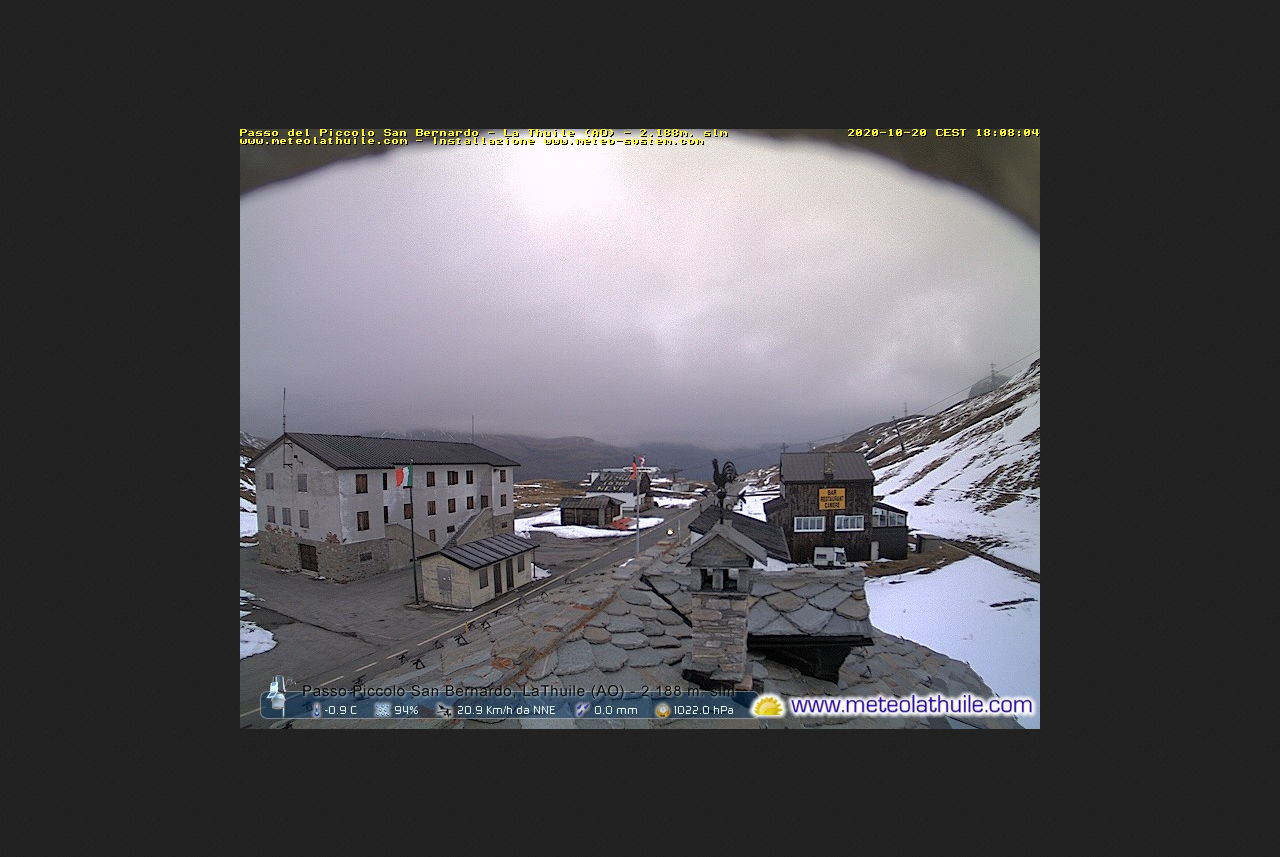yes: (393, 464, 415, 487)
